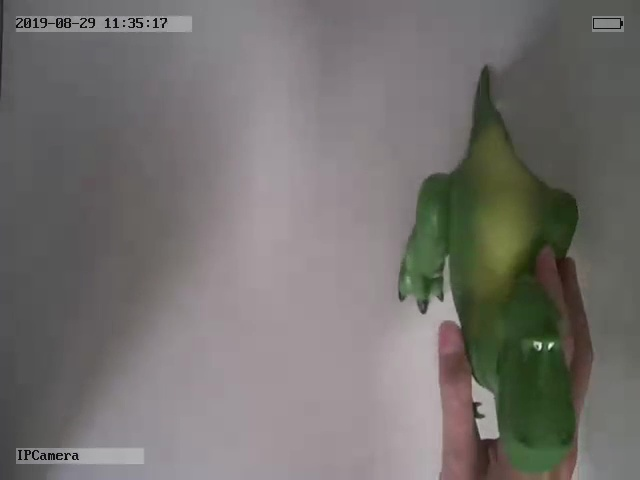rex: (395, 67, 581, 480)
